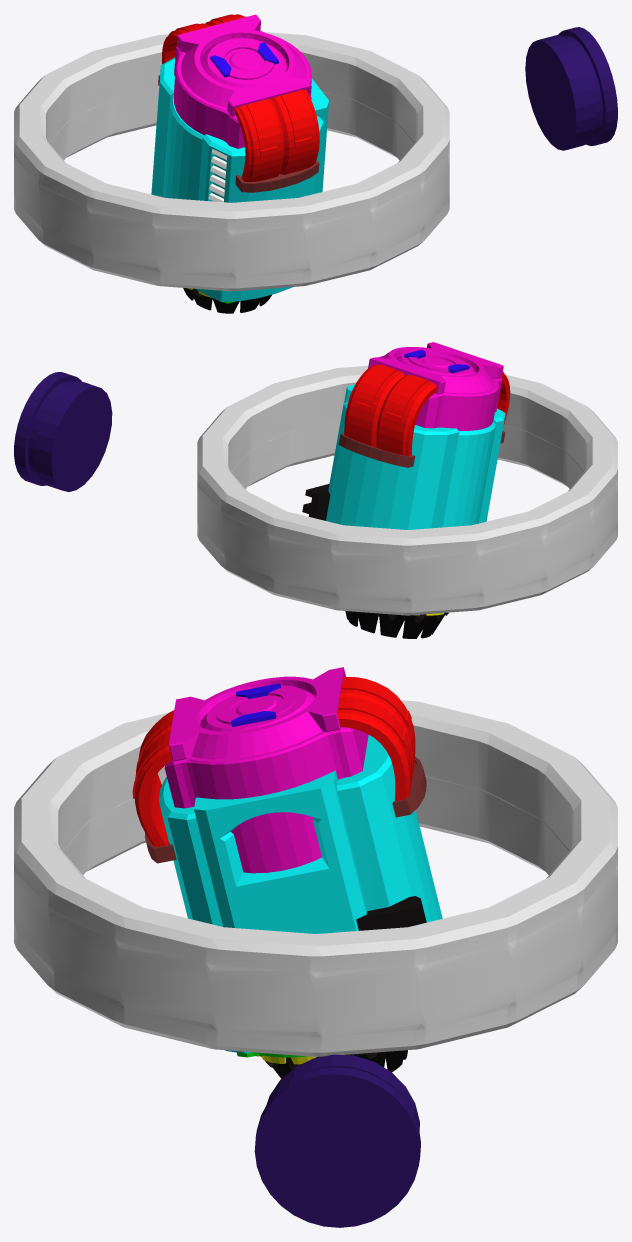
Rendered from GHNSD.FBX.
The picture shows the model from 3 angles, top to bottom: view 1: azimuth 30°, elevation 25°; view 2: azimuth 150°, elevation 25°; view 3: azimuth 270°, elevation 25°; orthographic projection. The views are drawn at different scales.
Parts seen in each view (by area): view 1: Cylinder001, Object004, Object005; view 2: Cylinder001, Object004, Object005; view 3: Cylinder001, Object004, Object005.
Part boxes in pixels (box(x1,y1,x2,y2)): Cylinder001: box(14, 32, 449, 291); Object004: box(151, 14, 328, 313); Object005: box(525, 27, 617, 150); Cylinder001: box(197, 365, 617, 615); Object004: box(302, 342, 510, 638); Object005: box(14, 372, 112, 491); Cylinder001: box(14, 700, 617, 1056); Object004: box(132, 667, 442, 1078); Object005: box(254, 1054, 420, 1227).
Size of the model in its own units: 184 by 86.79 by 124.
